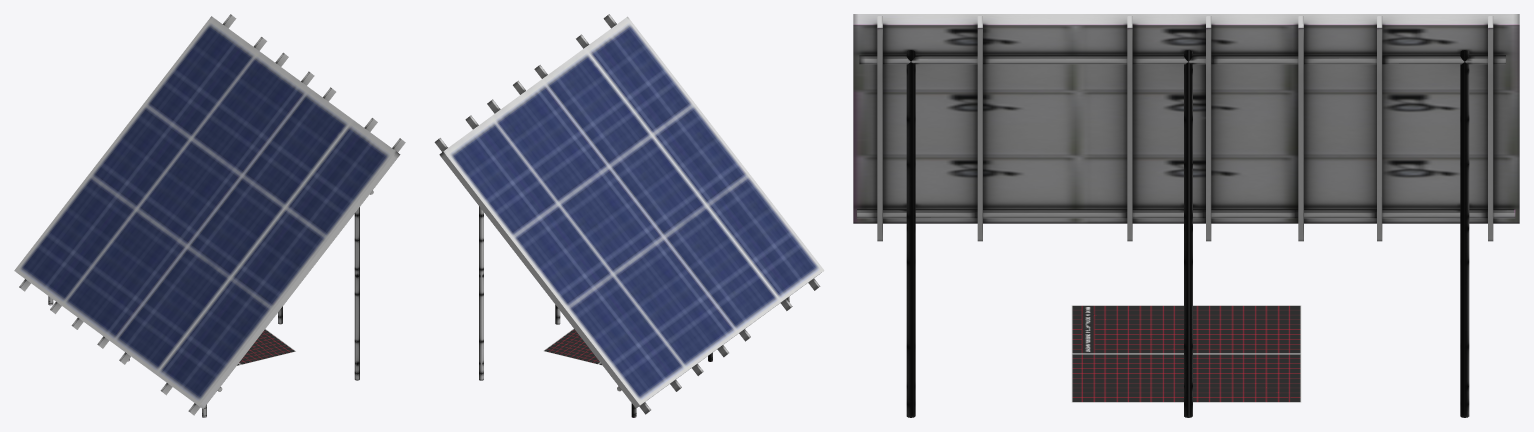
Rendered from big_solar_pannel.glb.
3 renders of one model, left to right at view 1: azimuth 30°, elevation 25°; view 2: azimuth 150°, elevation 25°; view 3: azimuth 270°, elevation 25°, orthographic. The views are drawn at different scales.
Visible parts, largest first — view 1: SolarPannels, floor_grid; view 2: SolarPannels, floor_grid; view 3: SolarPannels, floor_grid.
Boxes of the visible parts, left/top/right/bottom form: SolarPannels: left=14, top=14, right=405, bottom=417; floor_grid: left=237, top=329, right=296, bottom=365; SolarPannels: left=434, top=14, right=824, bottom=417; floor_grid: left=543, top=328, right=602, bottom=365; SolarPannels: left=853, top=14, right=1519, bottom=417; floor_grid: left=1071, top=305, right=1301, bottom=402.
Size of the model in its own units: 390 by 413 by 578.
2 materials, 2 textured.
